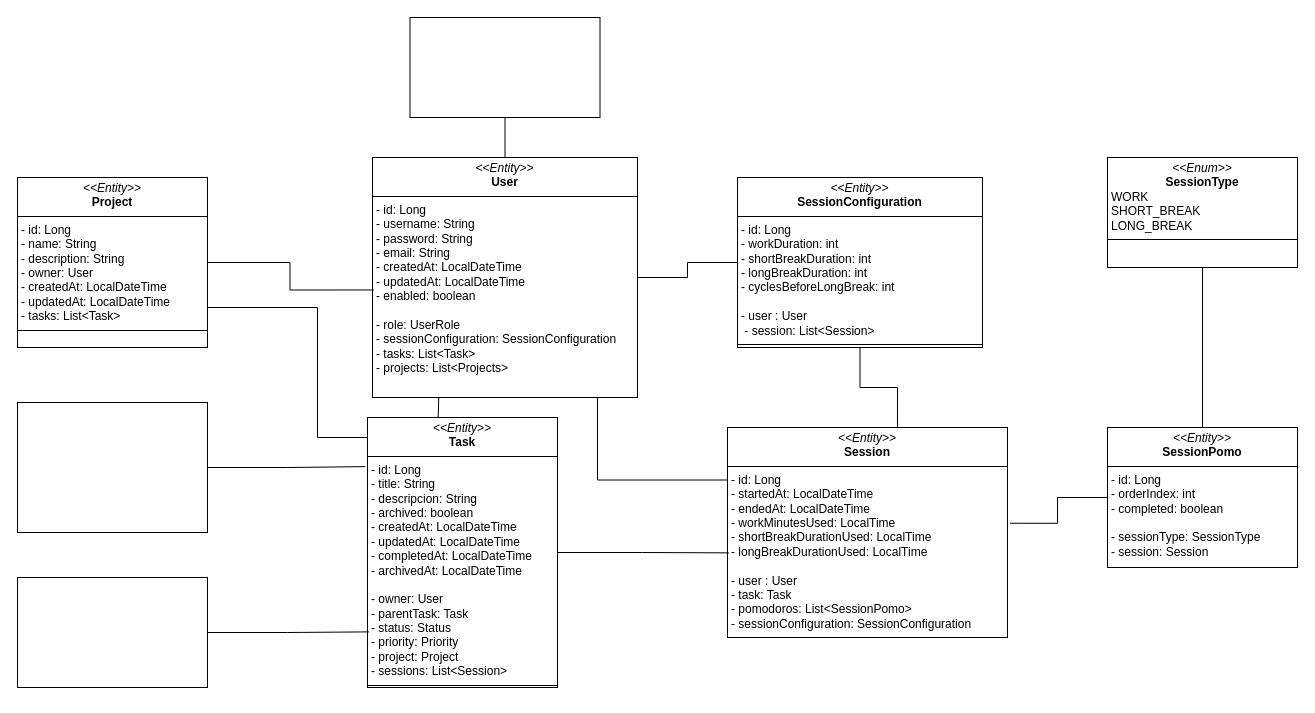
This 1315x713 diagram has some shape labels left out. Here are the shapes that lost their labels. From the top down, the centre of each, then its label:
At (x=504, y=67): "<<Enum>> UserRole ADMIN USER".
At (x=112, y=467): "<<Enum>> Status TODO IN_PROGRESS BLOCKED DONE".
At (x=112, y=632): "<<Enum>> Priority HIGH MEDIUM LOW".
